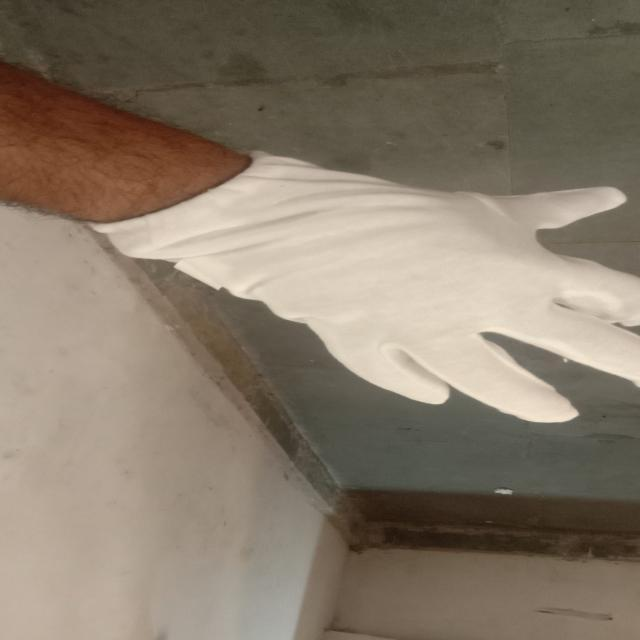gloved_hand: (68, 145, 637, 433)
